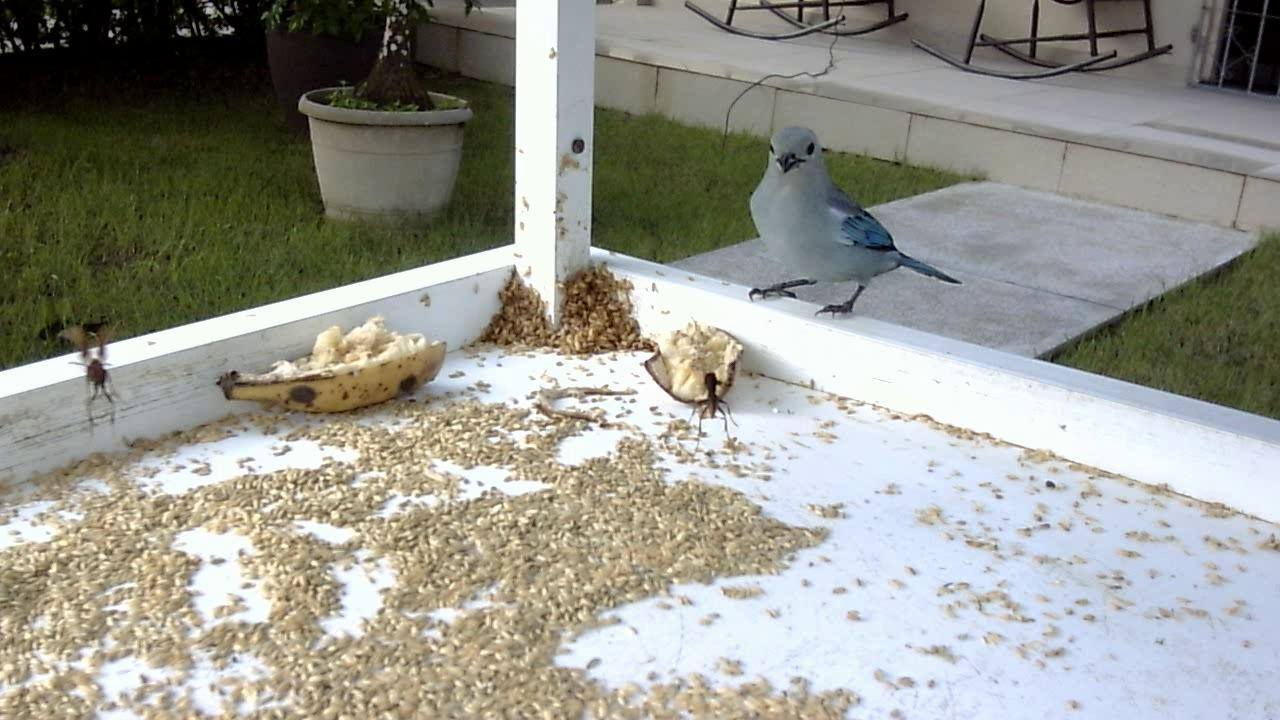sanhaco_da_amazonia: (737, 129, 967, 329)
